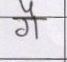ai_matra: (19, 0, 39, 17)
